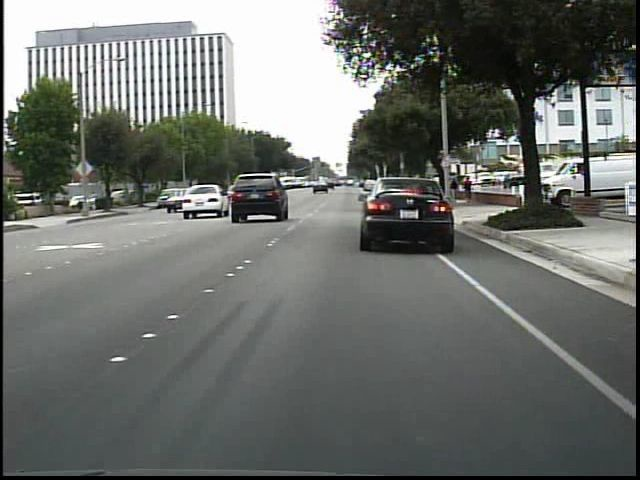person: (462, 175, 474, 205), (447, 177, 459, 202)
